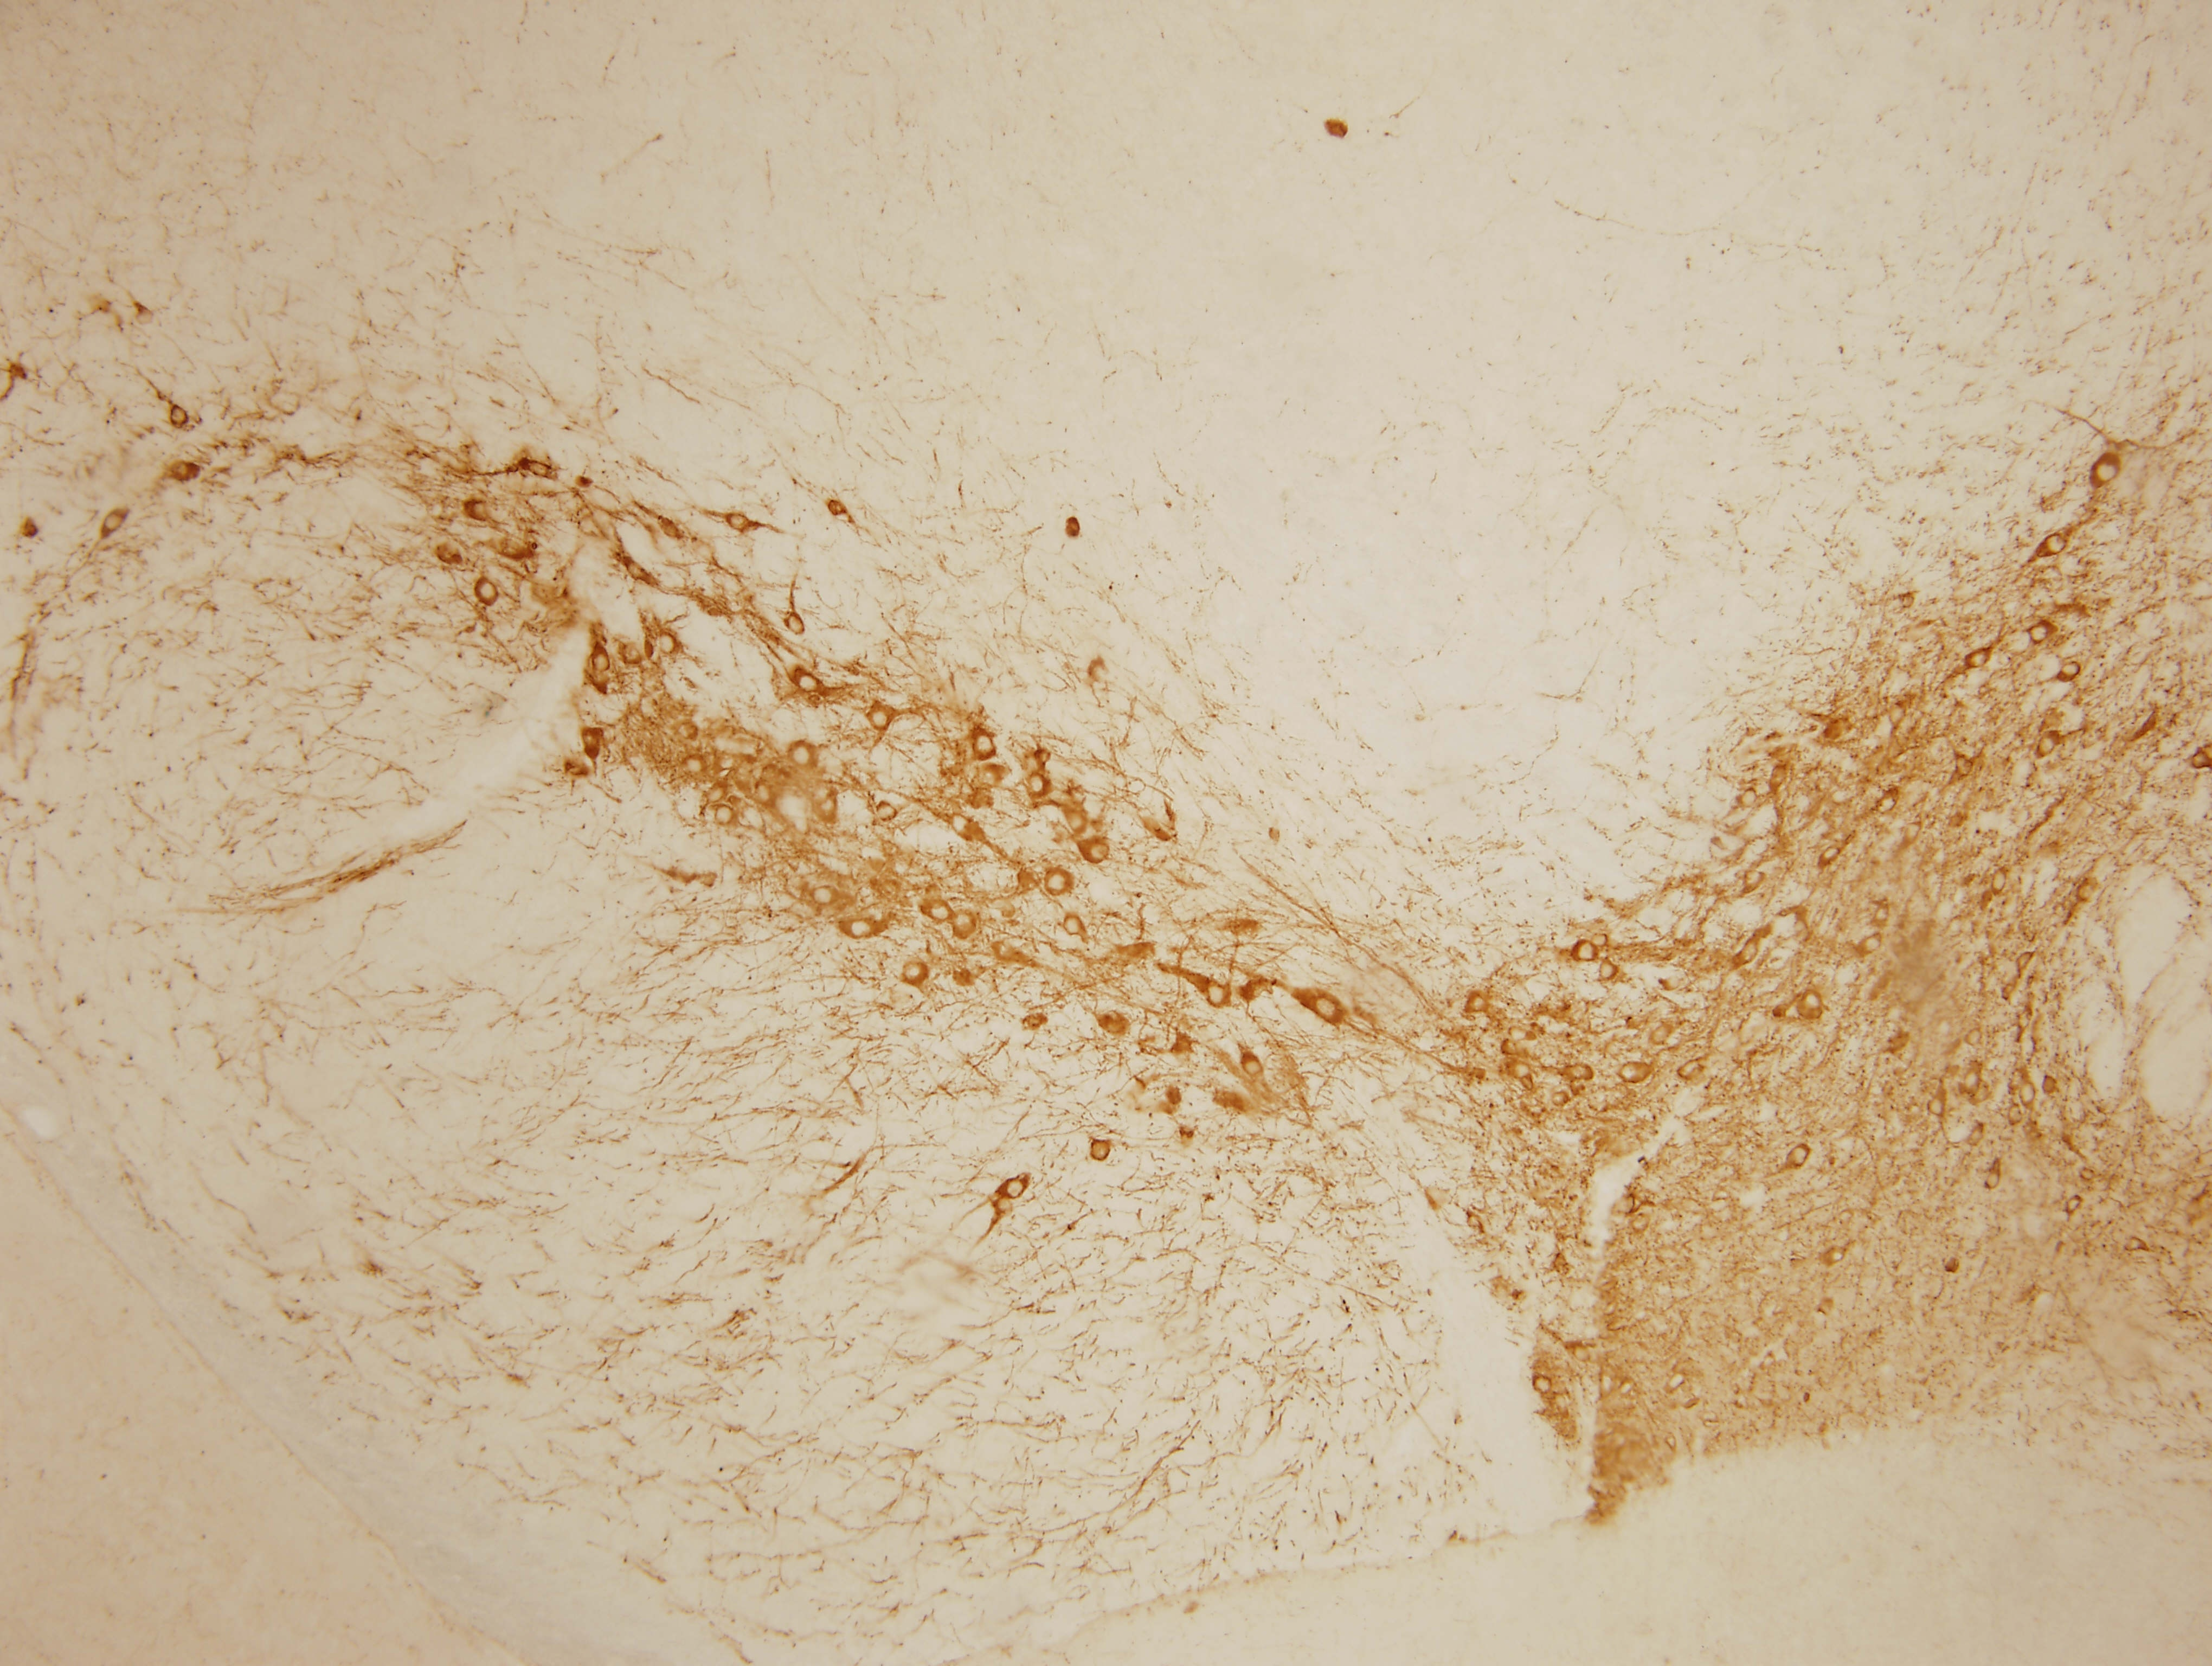neuron: (922, 894, 955, 928), (98, 507, 131, 541), (1084, 838, 1117, 871), (166, 455, 199, 488), (808, 784, 841, 816), (967, 731, 1000, 763), (1040, 866, 1074, 898), (1616, 1055, 1647, 1089), (2090, 457, 2121, 488), (472, 578, 504, 609), (589, 649, 616, 676), (623, 558, 649, 585), (656, 630, 682, 656), (675, 719, 701, 746), (680, 753, 706, 779), (712, 803, 738, 830), (727, 511, 754, 537), (750, 784, 776, 810), (789, 744, 815, 770), (796, 672, 822, 698), (822, 495, 848, 521), (848, 915, 874, 941), (867, 705, 894, 731), (873, 798, 899, 824), (901, 959, 927, 985), (948, 812, 974, 838), (951, 910, 977, 936), (1002, 1178, 1028, 1204), (1023, 772, 1049, 798), (1061, 914, 1088, 940), (1063, 518, 1089, 544), (1086, 660, 1112, 686), (1088, 1141, 1114, 1167), (1205, 984, 1231, 1010), (1242, 1054, 1268, 1080), (1464, 991, 1490, 1017), (1530, 1372, 1556, 1398), (1569, 1340, 1595, 1367), (1570, 940, 1596, 966), (1595, 957, 1621, 984), (1628, 1209, 1654, 1236), (1647, 1022, 1673, 1048), (1665, 1369, 1691, 1395), (1675, 1057, 1701, 1083), (168, 404, 194, 431), (1736, 786, 1763, 812), (1787, 1143, 1813, 1169), (1801, 987, 1827, 1013), (1859, 933, 1885, 959), (1899, 821, 1925, 847), (1922, 1094, 1948, 1120), (1957, 1067, 1983, 1094), (1964, 646, 1990, 672), (1986, 870, 2013, 896), (2000, 1102, 2027, 1129), (2014, 1081, 2041, 1108), (2027, 621, 2053, 648), (2058, 658, 2084, 684), (467, 499, 493, 525), (783, 613, 810, 637), (810, 884, 836, 908), (1315, 994, 1339, 1020), (1509, 1059, 1534, 1085), (1610, 1377, 1637, 1402), (1740, 868, 1766, 893), (1819, 842, 1843, 868), (1875, 793, 1899, 819), (1887, 703, 1913, 728), (2035, 735, 2060, 761), (2044, 532, 2069, 558), (1464, 1213, 1485, 1232), (1507, 1024, 1527, 1045), (1549, 1090, 1570, 1109), (1661, 1432, 1680, 1453), (1827, 1248, 1847, 1269), (2039, 1076, 2060, 1096), (2063, 1197, 2084, 1216), (661, 521, 680, 541), (706, 786, 726, 805), (1035, 747, 1054, 766), (1499, 1038, 1518, 1057), (1589, 931, 1609, 950), (1873, 906, 1892, 926), (1983, 1172, 2002, 1192), (2077, 1166, 2097, 1185), (2125, 1234, 2144, 1253)
